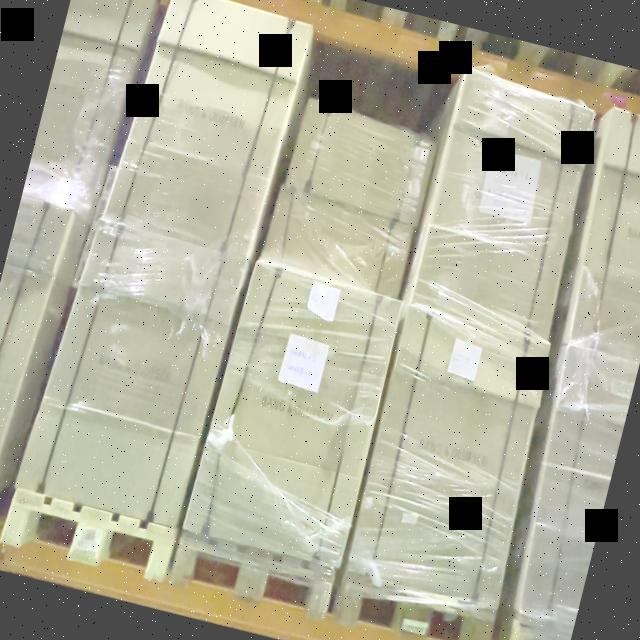box: (188, 262, 407, 572), (28, 224, 243, 518), (348, 314, 554, 592), (406, 76, 602, 344), (113, 0, 309, 253), (262, 105, 436, 299)
